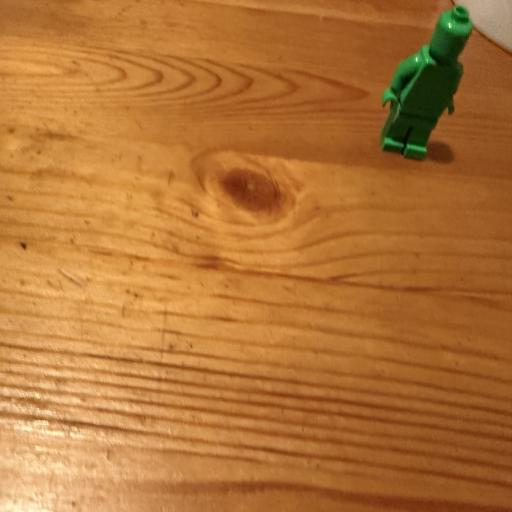Minifig: (380, 6, 472, 160)
